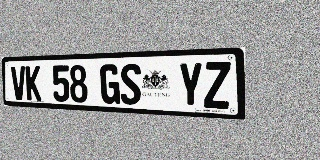5: (52, 65, 70, 102)
8: (69, 65, 88, 103)
G: (100, 64, 120, 104)
K: (25, 66, 41, 101)
S: (120, 63, 141, 105)
V: (11, 66, 26, 100)
Y: (178, 62, 203, 108)
Z: (204, 61, 231, 109)
